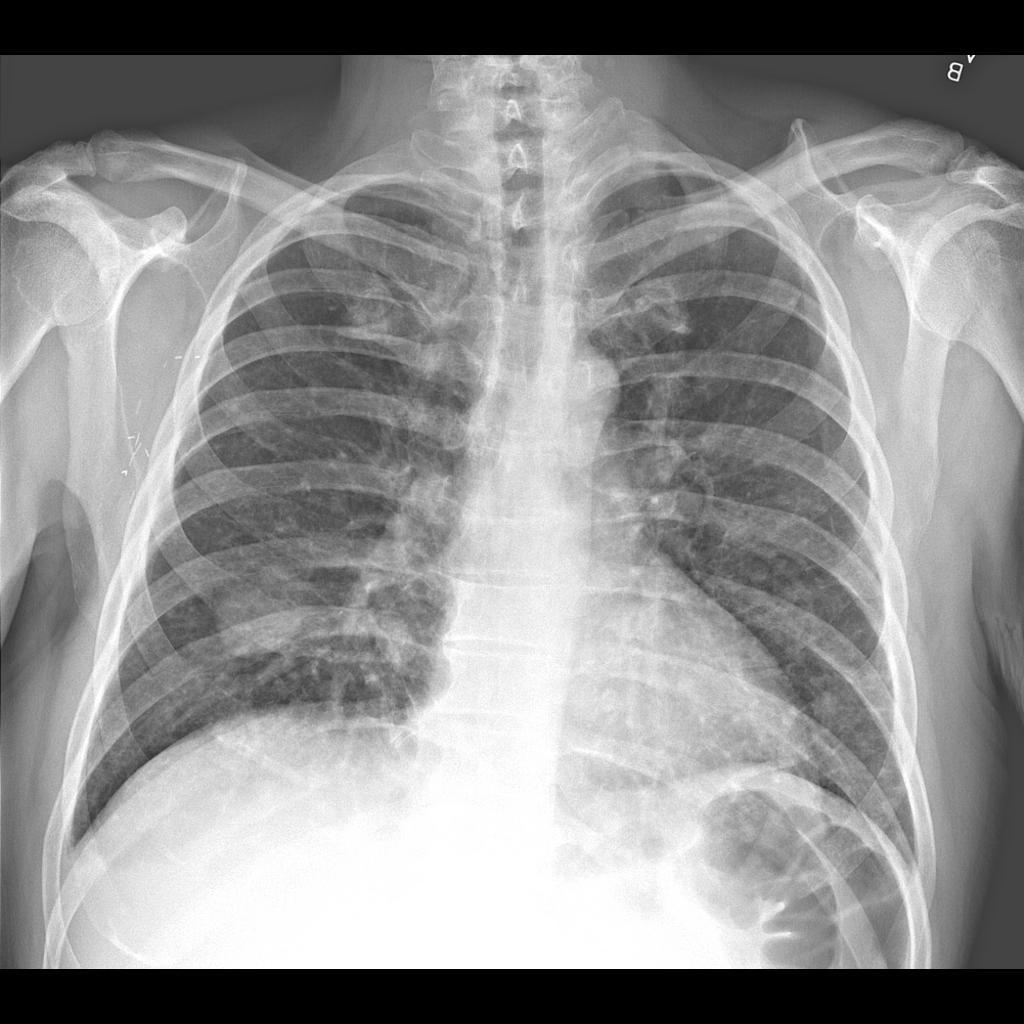Nodule: (214, 558, 319, 666), (805, 685, 852, 735)
